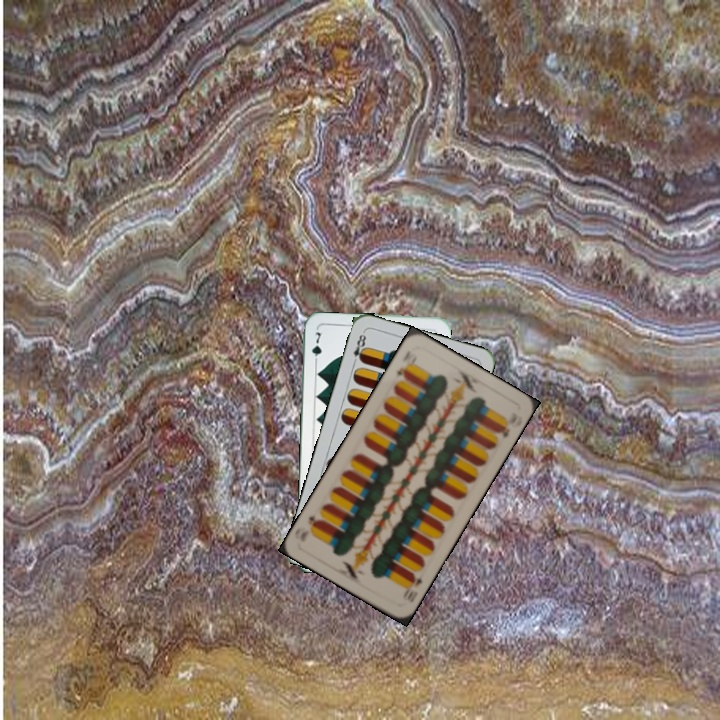E10: (403, 569, 425, 605), (392, 356, 411, 382)
E8: (349, 328, 369, 368)
G7: (308, 328, 325, 367)
